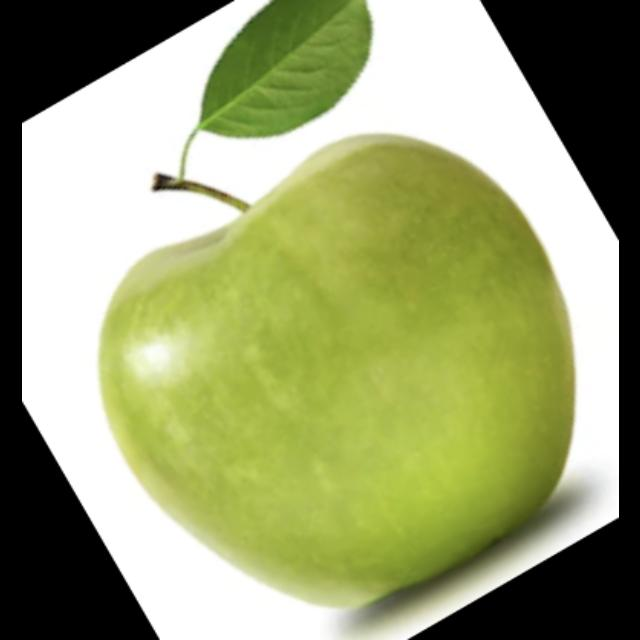Apel Segar: (87, 126, 586, 620)
